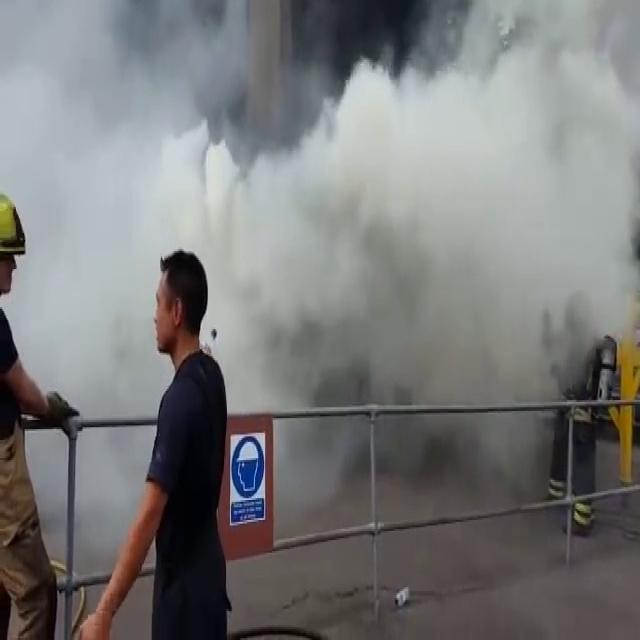Smoke: (230, 35, 627, 442), (39, 56, 148, 392)
